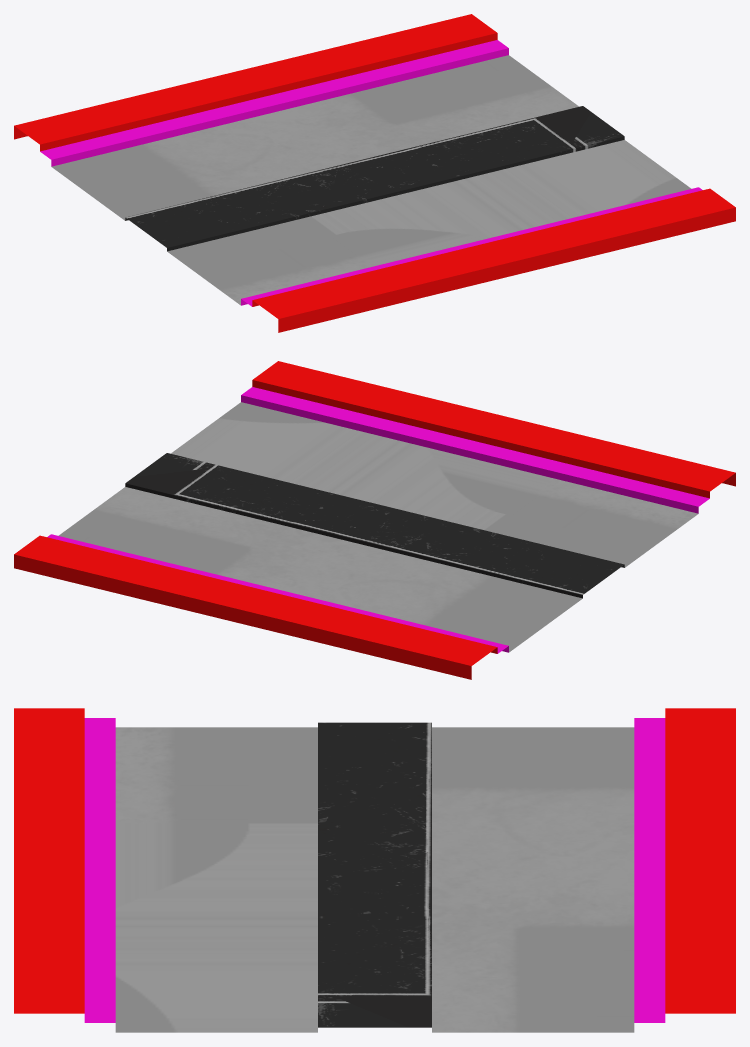
Rendered from Floor-Base.fbx.
3 renders of one model, top to bottom at view 1: azimuth 30°, elevation 25°; view 2: azimuth 150°, elevation 25°; view 3: azimuth 270°, elevation 25°, orthographic. The views are drawn at different scales.
Parts seen in each view (by area): view 1: Base; view 2: Base; view 3: Base.
Part boxes in pixels (bbox=[...]): Base: bbox=[14, 14, 735, 332]; Base: bbox=[14, 361, 735, 679]; Base: bbox=[14, 708, 735, 1032].
Bounding box in the file's own units: 78.74 × 2.28 × 78.74.
Materials: 4 (2 with a texture image).
